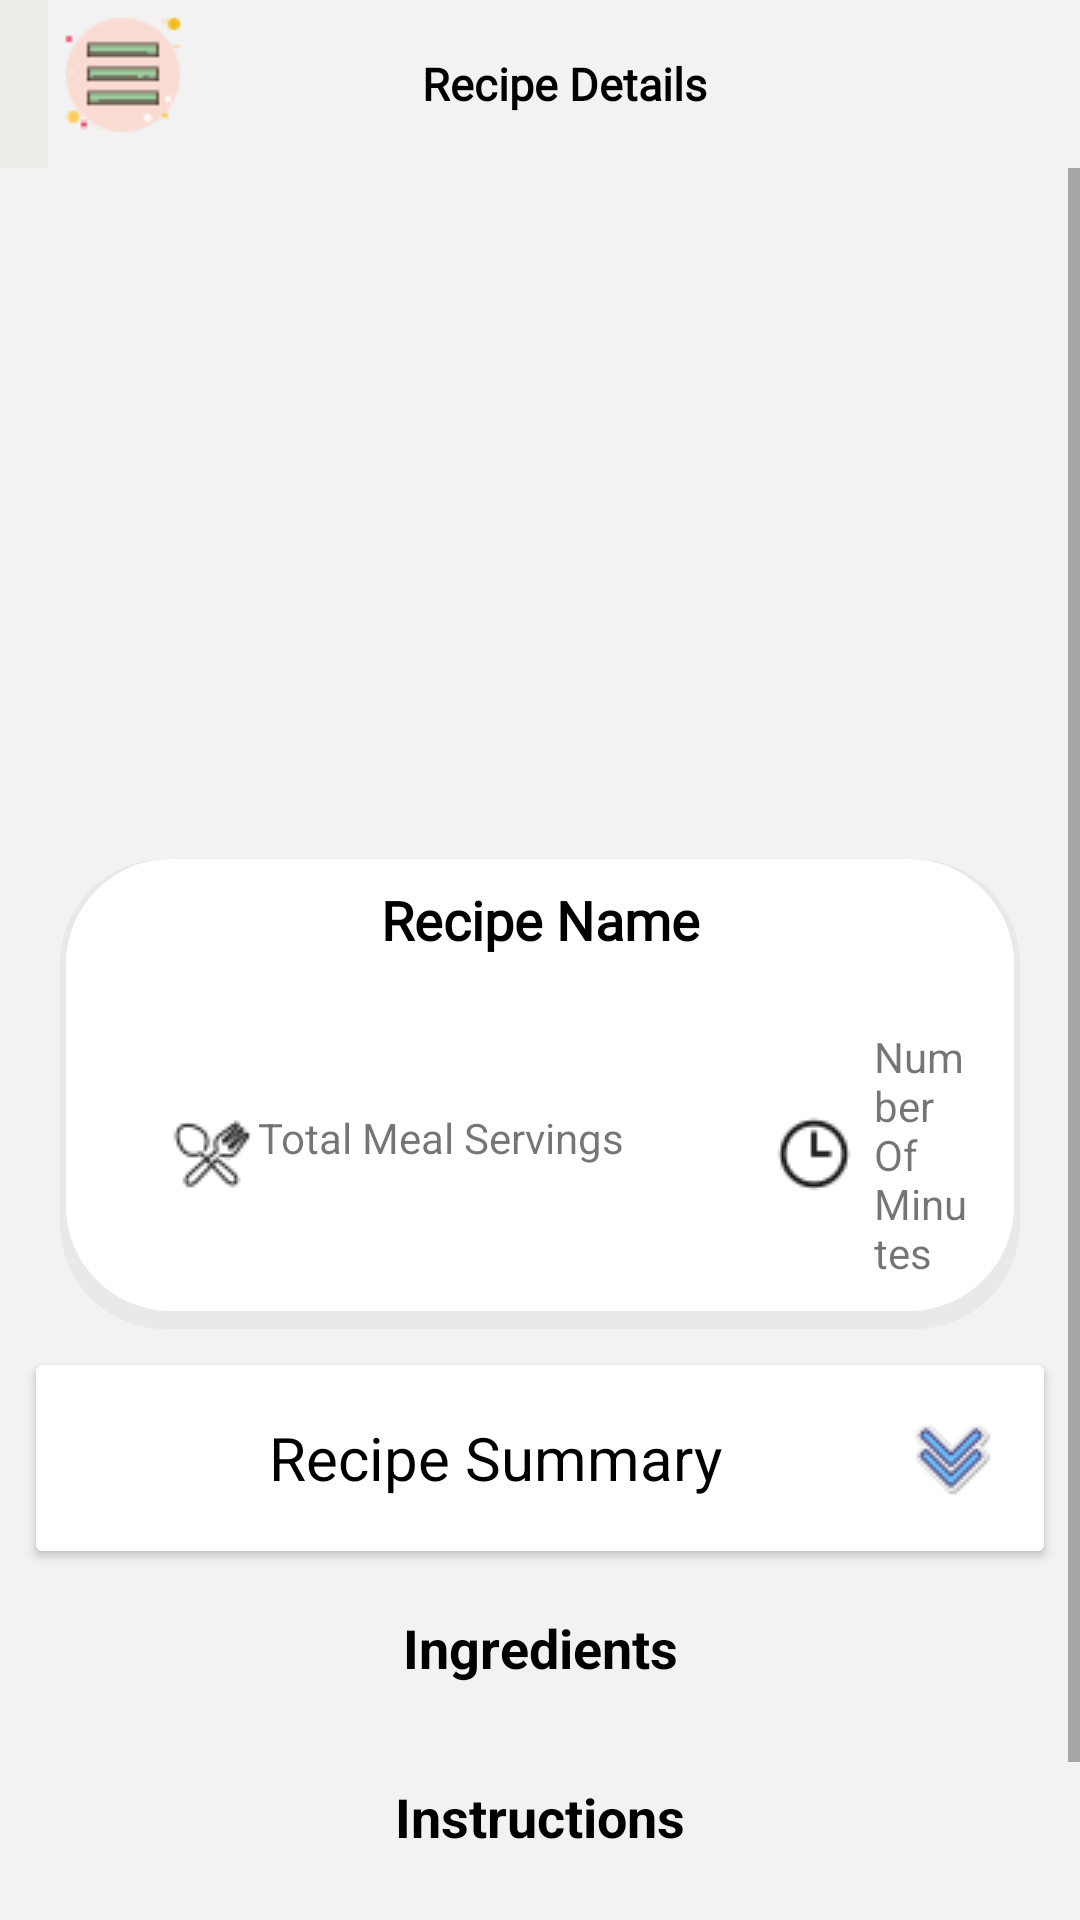

Icon bounding boxes for this 1080px×1920px phone screenshot, format BBox(x1, y1, x2, y2):
menu: BBox(65, 17, 181, 131)
